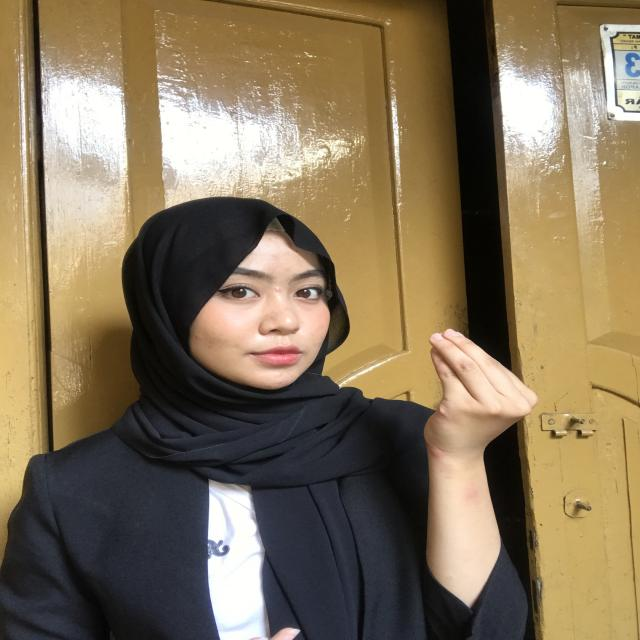kapan: (375, 315, 568, 479)
